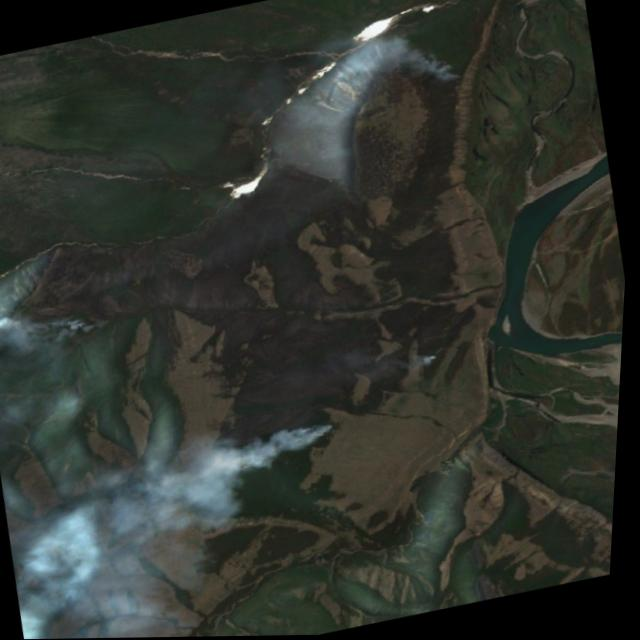fire: (215, 419, 349, 480), (0, 298, 101, 354), (415, 48, 474, 94)
